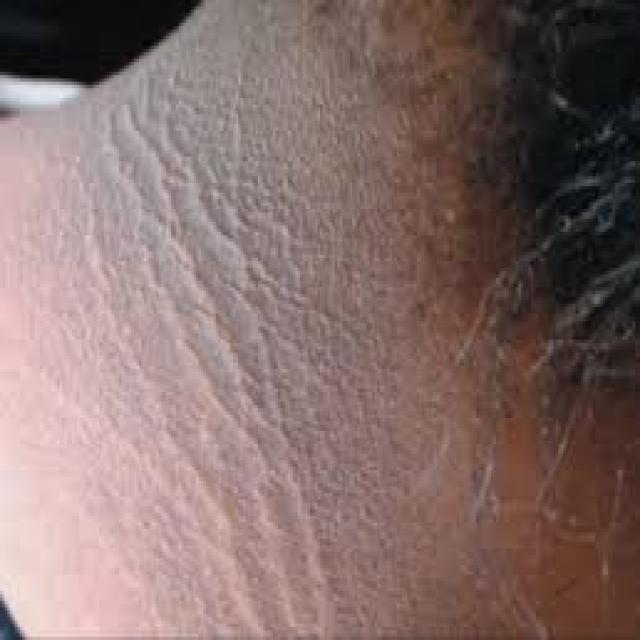Acanthosis Nigricans: (7, 0, 543, 640)
